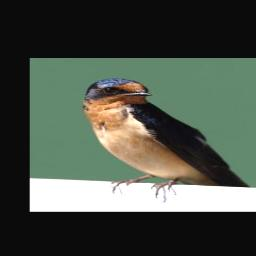Swallow: (85, 77, 251, 198)
